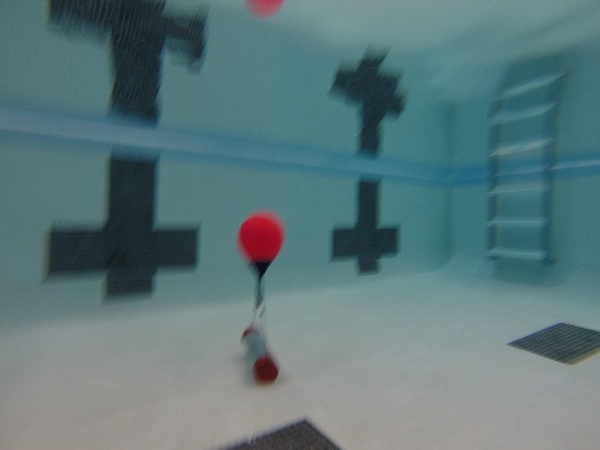buoy_red: (238, 213, 282, 276)
